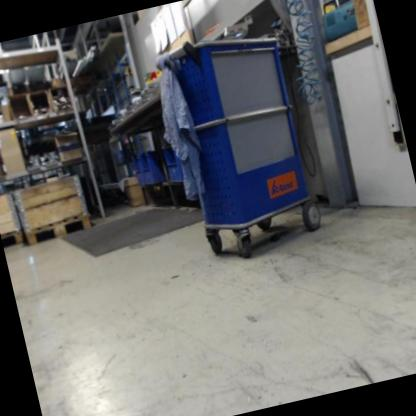pallet: (22, 210, 94, 249), (0, 228, 26, 250)
small_load_carrier: (163, 143, 187, 186), (139, 151, 165, 187), (130, 157, 151, 192)
